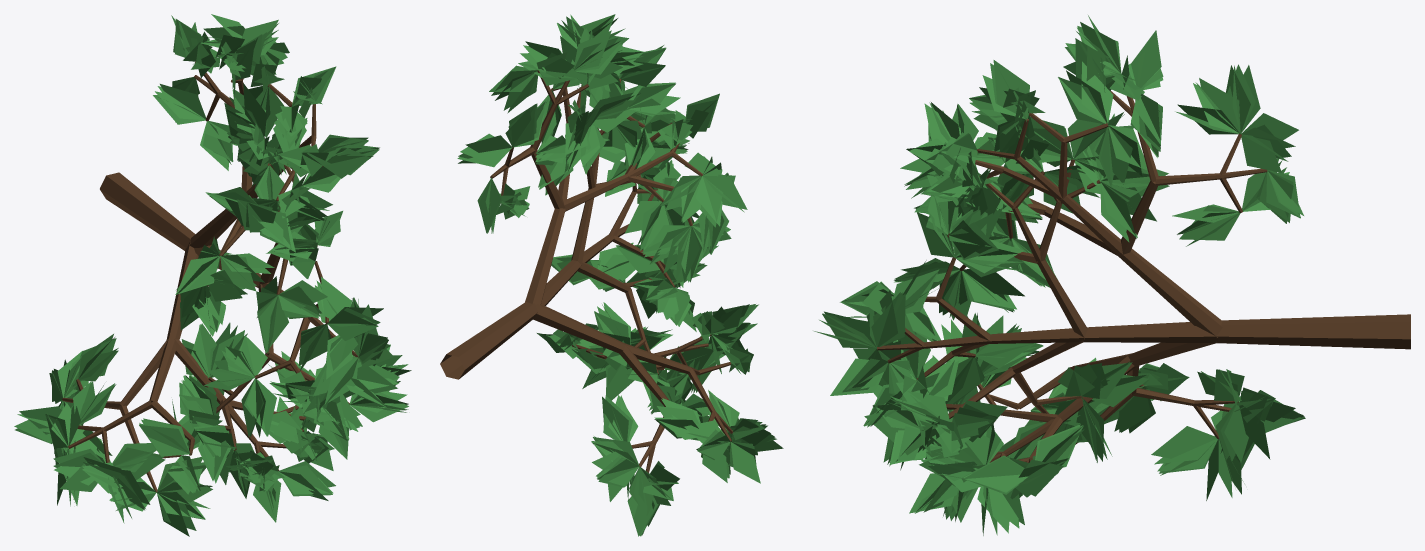
File: windswept-bonsai_seed4.obj
The picture shows the model from 3 angles, left to right: view 1: azimuth 30°, elevation 25°; view 2: azimuth 150°, elevation 25°; view 3: azimuth 270°, elevation 25°; orthographic projection. The views are drawn at different scales.
Bounding box in the file's own units: 2.29 × 3.39 × 3.41.
